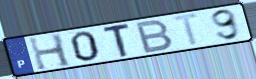0: (69, 30, 102, 62)
9: (209, 8, 243, 41)
B: (135, 18, 175, 55)
H: (27, 32, 74, 72)
T: (171, 11, 204, 48), (102, 21, 132, 59)
